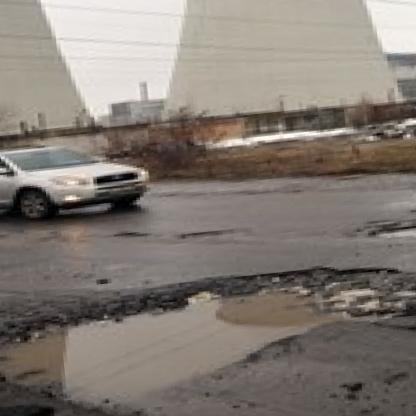pothole: (0, 245, 416, 414), (371, 218, 416, 244), (173, 227, 230, 242), (113, 226, 155, 244)
